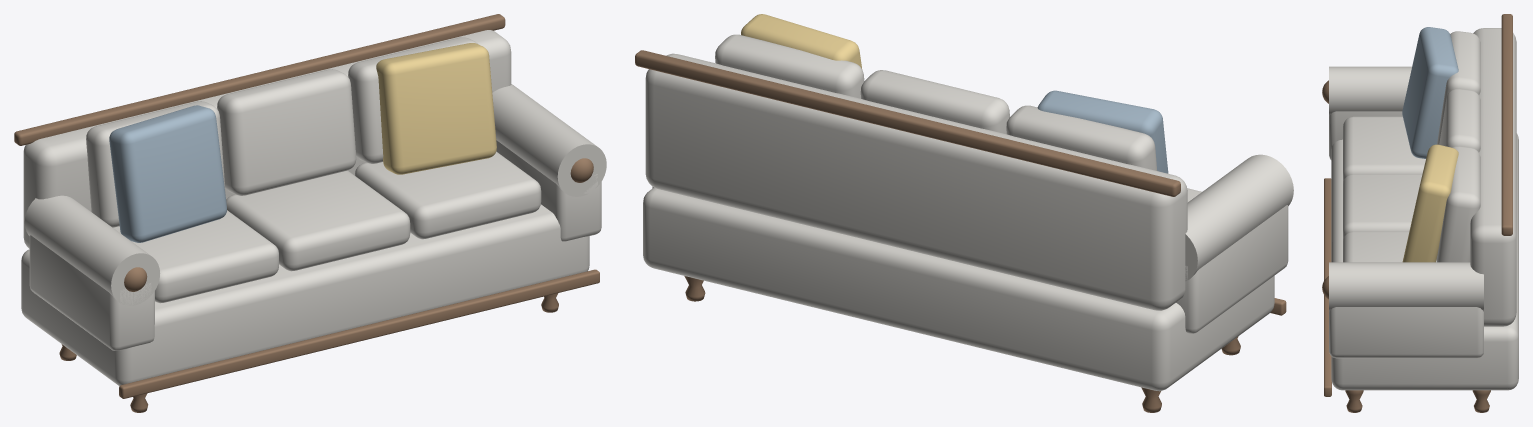
Rendered from sofa.glb.
The picture shows the model from 3 angles, left to right: view 1: azimuth 30°, elevation 25°; view 2: azimuth 150°, elevation 25°; view 3: azimuth 270°, elevation 25°; orthographic projection. The views are drawn at different scales.
Parts seen in each view (by area): view 1: base, backc1, cushB, cushA, seat1, seat2, seat0, trim, arm, armbase, backrail, back (+4 smaller); view 2: back, base, backrail, arm, armbase, backc1, backc0, backc2, cushA, cushB; view 3: base, back, armbase.001, arm.001, cushA, seat1, seat0, cushB, arm, backc2, backrail, backc1 (+6 smaller).
Boxes of the visible parts, <box> form: base: <box>21,204,589,385</box>; backc1: <box>217,69,356,195</box>; cushB: <box>376,43,496,174</box>; cushA: <box>109,105,226,242</box>; seat1: <box>226,170,410,271</box>; seat2: <box>355,151,541,239</box>; seat0: <box>113,210,278,303</box>; trim: <box>119,269,599,398</box>; arm: <box>24,195,160,305</box>; armbase: <box>29,235,154,350</box>; backrail: <box>14,14,505,145</box>; back: <box>23,30,511,248</box>; back: <box>645,53,1187,310</box>; base: <box>643,187,1274,391</box>; backrail: <box>635,50,1180,196</box>; arm: <box>1185,154,1293,281</box>; armbase: <box>1176,205,1288,333</box>; backc1: <box>860,70,1009,134</box>; backc0: <box>1006,105,1157,170</box>; backc2: <box>715,34,864,98</box>; cushA: <box>1037,90,1168,173</box>; cushB: <box>741,14,862,69</box>; base: <box>1331,133,1518,390</box>; back: <box>1470,28,1516,326</box>; armbase.001: <box>1329,307,1483,358</box>; arm.001: <box>1329,262,1483,311</box>; cushA: <box>1402,27,1458,158</box>; seat1: <box>1343,174,1422,240</box>; seat0: <box>1343,116,1425,182</box>; cushB: <box>1402,144,1458,262</box>; arm: <box>1329,66,1411,116</box>; backc2: <box>1436,146,1480,262</box>; backrail: <box>1501,14,1512,235</box>; backc1: <box>1439,88,1480,152</box>.
Size of the model in its own units: 2.22 by 1.03 by 0.85.
